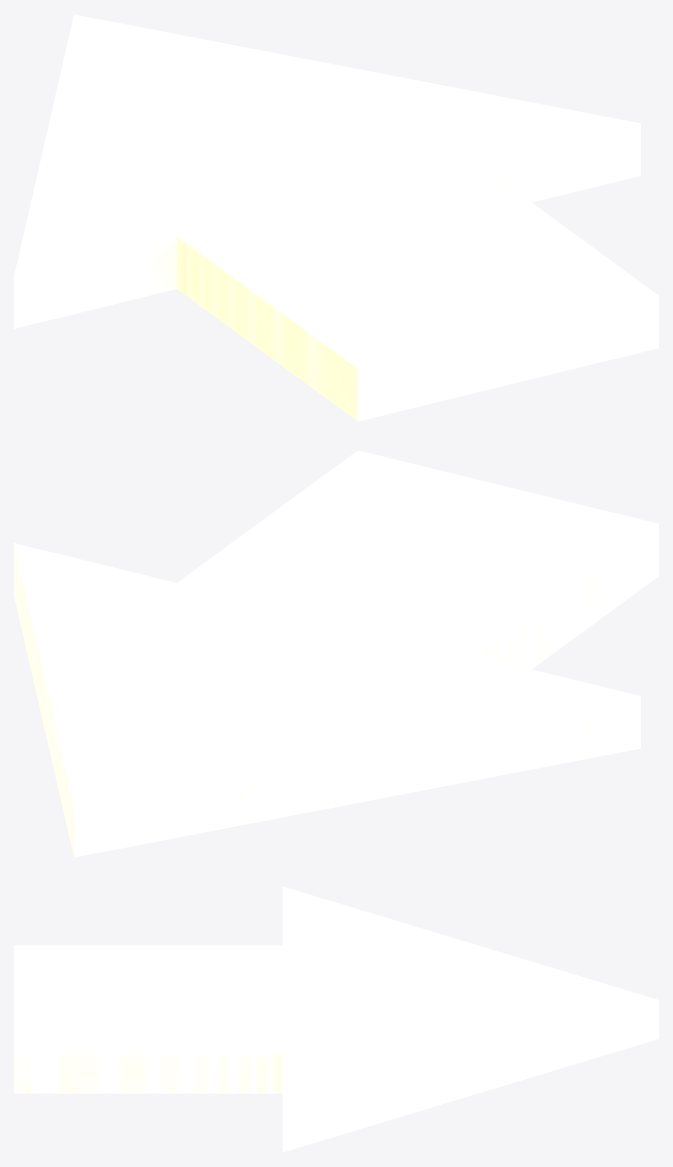
Rendered from marker_origin_arrow.glb.
3 renders of one model, top to bottom at view 1: azimuth 30°, elevation 25°; view 2: azimuth 150°, elevation 25°; view 3: azimuth 270°, elevation 25°, orthographic. The views are drawn at different scales.
Visible parts, largest first — view 1: MarkerOriginArrow; view 2: MarkerOriginArrow; view 3: MarkerOriginArrow.
Part boxes in pixels (x1=…): MarkerOriginArrow: x1=14, y1=14, x2=658, y2=421; MarkerOriginArrow: x1=14, y1=450, x2=658, y2=857; MarkerOriginArrow: x1=14, y1=886, x2=658, y2=1152.
Bounding box in the file's own units: 1 × 0.08 × 1.2.
Materials: 1 (1 with a texture image).
